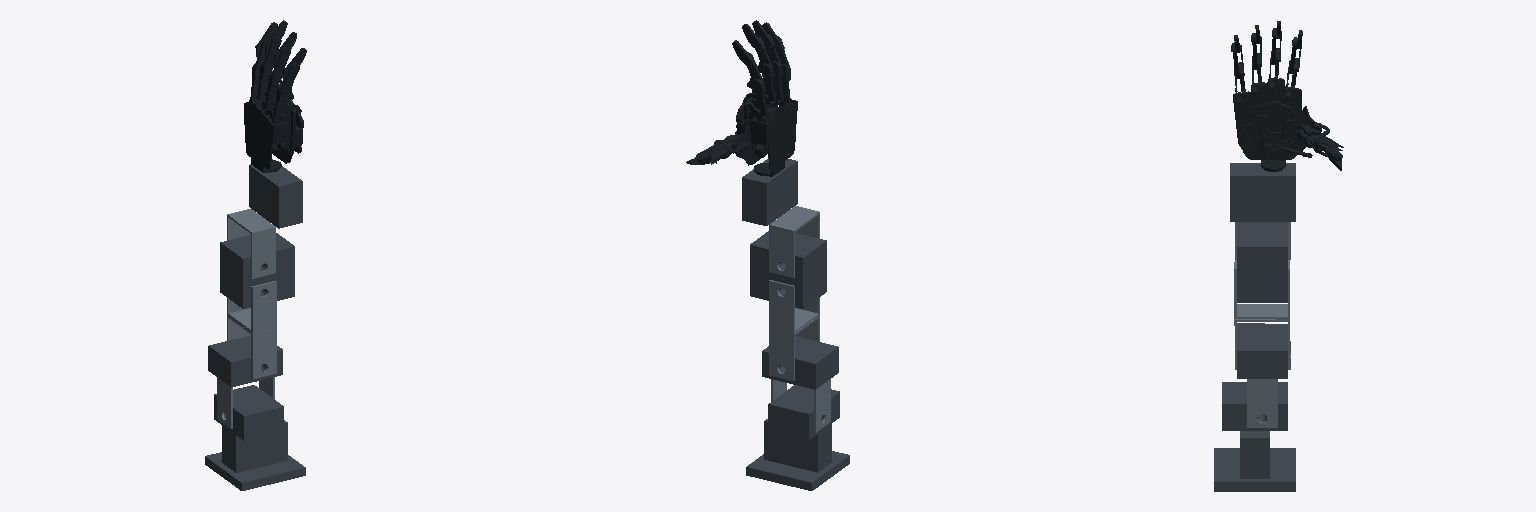
URDF robot description (kd_u3b_uhand_arm):
<?xml version="1.0"?>
<robot name="kd_u3b_uhand_arm">
  <!--
    Simplified arm assembled from the requested sequence:
      KD(base) -> U3B -> U3B -> KD + KD -> U3B -> right-angle adapter -> uHand palm.
    The supplied STL files are in millimetres, hence the 0.001 mesh scale.
    The hand meshes are filtered from uHand uno.igs to remove the acrylic base and
    controller modules.  The five finger links each have their own servo joint.
  -->

  <material name="kd_gray">
    <color rgba="0.30 0.33 0.36 1.0"/>
  </material>
  <material name="u3b_gray">
    <color rgba="0.46 0.50 0.54 1.0"/>
  </material>
  <material name="adapter_black">
    <color rgba="0.12 0.13 0.14 1.0"/>
  </material>
  <material name="hand_dark">
    <color rgba="0.16 0.18 0.20 1.0"/>
  </material>

  <link name="base_link">
    <inertial>
      <origin xyz="0 0 0"/>
      <mass value="0.20"/>
      <inertia ixx="0.00010" ixy="0" ixz="0" iyy="0.00010" iyz="0" izz="0.00010"/>
    </inertial>
    <visual>
      <geometry>
        <box size="0.08 0.08 0.01"/>
      </geometry>
      <material name="kd_gray"/>
    </visual>
    <collision>
      <geometry>
        <box size="0.08 0.08 0.01"/>
      </geometry>
    </collision>
  </link>

  <!-- KD used as the fixed base. Its side-hole centre is the first arm axis. -->
  <link name="kd_base">
    <inertial>
      <origin xyz="0 2e-05 0.025012"/>
      <mass value="0.12"/>
      <inertia ixx="3.40477796e-05" ixy="0" ixz="0" iyy="6.72738796e-05" iyz="0" izz="5.12738999e-05"/>
    </inertial>
    <visual>
      <origin xyz="-0.0325 0.015 0" rpy="1.57 0 0"/>
      <geometry>
        <mesh filename="meshes/KD.STL" scale="0.001 0.001 0.001"/>
      </geometry>
      <material name="kd_gray"/>
    </visual>
    <collision>
      <origin xyz="0 2e-05 0.025012"/>
      <geometry>
        <box size="0.065 0.03004 0.050024"/>
      </geometry>
    </collision>
  </link>

  <joint name="base_to_kd" type="fixed">
    <parent link="base_link"/>
    <child link="kd_base"/>
    <origin xyz="0 0 0"/>
  </joint>

  <!-- KD side centre -> the two-hole side of the first U3B (not U3A). -->
  <joint name="kd_base_side_to_kd_2" type="revolute">
    <parent link="kd_base"/>
    <child link="kd_2"/>
    <origin xyz="-0.0075 0.0 0.05" rpy="0 0 -1.57"/>
    <axis xyz="0 0 1"/>
    <limit lower="-0.9725" upper="0.8701" effort="6.0" velocity="2.0"/>
    <dynamics damping="0.05" friction="0.02"/>
  </joint>
  <link name="kd_2">
    <inertial>
      <origin xyz="0 0 0.015"/>
      <mass value="0.12"/>
      <inertia ixx="3.4e-05" ixy="0" ixz="0" iyy="5.125e-05" iyz="0" izz="6.725e-05"/>
    </inertial>
    <visual>
      <origin xyz="-0.0325 -0.025 0" rpy="0 0 0"/>
      <geometry>
        <mesh filename="meshes/KD.STL" scale="0.001 0.001 0.001"/>
      </geometry>
      <material name="kd_gray"/>
    </visual>
    <collision>
      <origin xyz="0 0 0.015"/>
      <geometry>
        <box size="0.065 0.05 0.03"/>
      </geometry>
    </collision>
  </link>
  <joint name="kd_2_to_u3b_base" type="revolute">
    <parent link="kd_2"/>
    <child link="u3b_base"/>
    <origin xyz="-0.0075 0 0.015"/>
    <axis xyz="0 -1 0"/>
    <!-- upper = raw 350 (SAFE_LIMITS[2] 上限) = +66.86°; 再大舵机执行不了 -->
    <limit lower="-0.4709" upper="1.1670" effort="6.0" velocity="2.0"/>
    <dynamics damping="0.05" friction="0.02"/>
  </joint>
  <link name="u3b_base">
    <inertial>
      <origin xyz="6.6e-05 -1.2e-05 0.017524"/>
      <mass value="0.08"/>
      <inertia ixx="4.03858971e-05" ixy="0" ixz="0" iyy="2.62543226e-05" iyz="0" izz="2.62368815e-05"/>
    </inertial>
    <visual>
      <origin xyz="-0.015 -0.0275 0.045" rpy="3.14 0 1.57"/>
      <geometry>
        <mesh filename="meshes/U3B.STL" scale="0.001 0.001 0.001"/>
      </geometry>
      <material name="u3b_gray"/>
    </visual>
    <collision>
      <origin xyz="6.6e-05 -1.2e-05 0.017524"/>
      <geometry>
        <box size="0.030131 0.055024 0.055048"/>
      </geometry>
    </collision>
  </link>
  <joint name="u3b_base_to_kd_3" type="fixed">
    <parent link="u3b_base"/>
    <child link="kd_3"/>
    <origin xyz="0 0 0.045" rpy="0 0 3.14"/>
    <axis xyz="1 0 0"/>
    <limit lower="-1.57" upper="1.57" effort="6.0" velocity="2.0"/>
    <dynamics damping="0.05" friction="0.02"/>
  </joint>
  <link name="kd_3">
    <inertial>
      <origin xyz="2.6e-05 2e-05 0.015"/>
      <mass value="0.12"/>
      <inertia ixx="5.13017503e-05" ixy="0" ixz="0" iyy="3.40517722e-05" iyz="0" izz="6.73535224e-05"/>
    </inertial>
    <visual>
      <origin xyz="0.025 -0.0325 0" rpy="0 0 1.57"/>
      <geometry>
        <mesh filename="meshes/KD.STL" scale="0.001 0.001 0.001"/>
      </geometry>
      <material name="kd_gray"/>
    </visual>
    <collision>
      <origin xyz="2.6e-05 2e-05 0.015"/>
      <geometry>
        <box size="0.050052 0.06504 0.03"/>
      </geometry>
    </collision>
  </link>
  <joint name="kd_3_to_u3b_lower" type="revolute">
    <parent link="kd_3"/>
    <child link="u3b_lower"/>
    <origin xyz="0.0 -0.0075 0.015"/>
    <axis xyz="1 0 0"/>
    <limit lower="-0.2047" upper="2.3544" effort="6.0" velocity="2.0"/>
    <dynamics damping="0.05" friction="0.02"/>
  </joint>
  <link name="u3b_lower">
    <inertial>
      <origin xyz="4.4e-05 0 0.017456"/>
      <mass value="0.08"/>
      <inertia ixx="2.62309036e-05" ixy="0" ixz="0" iyy="4.04618072e-05" iyz="0" izz="2.62309036e-05"/>
    </inertial>
    <visual>
      <origin xyz="0.0275 -0.015 0.045" rpy="0 3.14 0"/>
      <geometry>
        <mesh filename="meshes/U3B.STL" scale="0.001 0.001 0.001"/>
      </geometry>
      <material name="u3b_gray"/>
    </visual>
    <collision>
      <origin xyz="4.4e-05 0 0.017456"/>
      <geometry>
        <box size="0.055088 0.03 0.055088"/>
      </geometry>
    </collision>
  </link>

  <!-- Face-to-face U3B connection. -->
  <joint name="u3b_lower_to_u3b_middle" type="fixed">
    <parent link="u3b_lower"/>
    <child link="u3b_middle"/>
    <origin xyz="0 0 0.045" rpy="0 0 0"/>
  </joint>

  <link name="u3b_middle">
    <inertial>
      <origin xyz="0 0 0.0275"/>
      <mass value="0.08"/>
      <inertia ixx="2.61666667e-05" ixy="0" ixz="0" iyy="4.03333333e-05" iyz="0" izz="2.61666667e-05"/>
    </inertial>
    <visual>
      <origin xyz="-0.0275 -0.015 0" />
      <geometry>
        <mesh filename="meshes/U3B.STL" scale="0.001 0.001 0.001"/>
      </geometry>
      <material name="u3b_gray"/>
    </visual>
    <collision>
      <origin xyz="0 0 0.0275"/>
      <geometry>
        <box size="0.055 0.03 0.055"/>
      </geometry>
    </collision>
  </link>

  <!-- First KD of the paired KD block. -->
  <joint name="u3b_middle_to_kd_pair_front" type="revolute">
    <parent link="u3b_middle"/>
    <child link="kd_pair_front"/>
    <origin xyz="0 0 0.045" rpy="3.14 0 0"/>
    <axis xyz="-1 0 0"/>
    <limit lower="-0.7677" upper="0.6142" effort="6.0" velocity="2.0"/>
    <dynamics damping="0.05" friction="0.02"/>
  </joint>

  <link name="kd_pair_front">
    <inertial>
      <origin xyz="2.6e-05 0.00752 0"/>
      <mass value="0.12"/>
      <inertia ixx="5.13017503e-05" ixy="0" ixz="0" iyy="3.40517722e-05" iyz="0" izz="6.73535224e-05"/>
    </inertial>
    <visual>
      <origin xyz="0.025 -0.025 -0.015" rpy="0 0 1.57"/>
      <geometry>
        <mesh filename="meshes/KD.STL" scale="0.001 0.001 0.001"/>
      </geometry>
      <material name="kd_gray"/>
    </visual>
    <collision>
      <origin xyz="2.6e-05 0.00752 0"/>
      <geometry>
        <box size="0.050052 0.06504 0.03"/>
      </geometry>
    </collision>
  </link>

  <!-- The second KD is fixed face-to-face with the first one. -->
  <joint name="kd_pair_front_to_kd_pair_rear" type="fixed">
    <parent link="kd_pair_front"/>
    <child link="kd_pair_rear"/>
    <origin xyz="0 0.0075 -0.015" rpy="3.14 0 1.57"/>
  </joint>

  <link name="kd_pair_rear">
    <inertial>
      <origin xyz="0 0 0.015"/>
      <mass value="0.12"/>
      <inertia ixx="3.4e-05" ixy="0" ixz="0" iyy="5.125e-05" iyz="0" izz="6.725e-05"/>
    </inertial>
    <visual>
      <origin xyz="-0.0325 -0.025 0"/>
      <geometry>
        <mesh filename="meshes/KD.STL" scale="0.001 0.001 0.001"/>
      </geometry>
      <material name="kd_gray"/>
    </visual>
    <collision>
      <origin xyz="0 0 0.015"/>
      <geometry>
        <box size="0.065 0.05 0.03"/>
      </geometry>
    </collision>
  </link>

  <!-- Paired KD side centre -> the third U3B. -->
  <joint name="kd_pair_to_u3b_upper" type="revolute">
    <parent link="kd_pair_rear"/>
    <child link="u3b_upper"/>
    <origin xyz="-0.0075 0 0.015"/>
    <axis xyz="0 -1 0"/>
    <limit lower="-0.5988" upper="0.5272" effort="6.0" velocity="2.0"/>
    <dynamics damping="0.05" friction="0.02"/>
  </joint>

  <link name="u3b_upper">
    <inertial>
      <origin xyz="-2.2e-05 5.6e-05 0.017456"/>
      <mass value="0.08"/>
      <inertia ixx="4.04793452e-05" ixy="0" ixz="0" iyy="2.62484597e-05" iyz="0" izz="2.62659977e-05"/>
    </inertial>
    <visual>
      <origin xyz="0.015 0.0275 0.045" rpy="0 3.14 1.57"/>
      <geometry>
        <mesh filename="meshes/U3B.STL" scale="0.001 0.001 0.001"/>
      </geometry>
      <material name="u3b_gray"/>
    </visual>
    <collision>
      <origin xyz="-2.2e-05 5.6e-05 0.017456"/>
      <geometry>
        <box size="0.030044 0.055111 0.055088"/>
      </geometry>
    </collision>
  </link>

  <joint name="u3b_upper_to_kd_4" type="fixed">
    <parent link="u3b_upper"/>
    <child link="kd_4"/>
    <origin xyz="0.06 0 0.045" rpy="0 1.57 3.14"/>
    <axis xyz="1 0 0"/>
    <limit lower="-1.57" upper="1.57" effort="6.0" velocity="2.0"/>
    <dynamics damping="0.05" friction="0.02"/>
  </joint>
  <link name="kd_4">
    <inertial>
      <origin xyz="-0.024974 2e-05 0.03"/>
      <mass value="0.12"/>
      <inertia ixx="5.13017503e-05" ixy="0" ixz="0" iyy="3.40517722e-05" iyz="0" izz="6.73535224e-05"/>
    </inertial>
    <visual>
      <origin xyz="0.0 -0.0325 0.015" rpy="0 0 1.57"/>
      <geometry>
        <mesh filename="meshes/KD.STL" scale="0.001 0.001 0.001"/>
      </geometry>
      <material name="kd_gray"/>
    </visual>
    <collision>
      <origin xyz="-0.024974 2e-05 0.03"/>
      <geometry>
        <box size="0.050052 0.06504 0.03"/>
      </geometry>
    </collision>
  </link>
  <joint name="kd_4_to_palm" type="revolute">
    <parent link="kd_4"/>
    <child link="hand_palm"/>
    <origin xyz="-0.055 -0.0075 0.0275" rpy="1.57 0 -1.57"/>
    <axis xyz="0 0 1"/>
    <limit lower="-0.4658" upper="0.5579" effort="6.0" velocity="2.0"/>
    <dynamics damping="0.05" friction="0.02"/>
  </joint>
  <link name="hand_palm">
    <inertial>
      <origin xyz="0.018656 -0.006358 0.035202"/>
      <mass value="0.35"/>
      <inertia ixx="0.000297027197" ixy="0" ixz="0" iyy="0.000568130164" iyz="0" izz="0.000449558445"/>
    </inertial>
    <visual>
      <origin xyz="0 0 0"/>
      <geometry>
        <mesh filename="meshes/hand_palm.stl" scale="0.001 0.001 0.001"/>
      </geometry>
      <material name="hand_dark"/>
    </visual>
    <collision>
      <origin xyz="0.018656 -0.006358 0.035202"/>
      <geometry>
        <box size="0.111149 0.05531 0.084407"/>
      </geometry>
    </collision>
  </link>

  <!-- Five independent finger servos.  The x positions follow the extracted CAD. -->
  <joint name="finger_pinky_joint" type="fixed">
    <parent link="hand_palm"/>
    <child link="finger_pinky"/>
    <origin xyz="-0.032 -0.003 0.065"/>
    <axis xyz="0 1 0"/>
    <limit lower="-1.20" upper="0.35" effort="0.8" velocity="4.0"/>
    <dynamics damping="0.02" friction="0.01"/>
  </joint>

  <link name="finger_pinky">
    <inertial>
      <origin xyz="0.004537 0.000808 0.024039"/>
      <mass value="0.04"/>
      <inertia ixx="5.38302262e-05" ixy="0" ixz="0" iyy="5.08933904e-05" iyz="0" izz="6.52359358e-06"/>
    </inertial>
    <visual>
      <geometry>
        <mesh filename="meshes/finger_pinky.stl" scale="0.001 0.001 0.001"/>
      </geometry>
      <material name="hand_dark"/>
    </visual>
    <collision>
      <origin xyz="0.004537 0.000808 0.024039"/>
      <geometry>
        <box size="0.023195 0.03767 0.121367"/>
      </geometry>
    </collision>
  </link>

  <joint name="finger_ring_joint" type="fixed">
    <parent link="hand_palm"/>
    <child link="finger_ring"/>
    <origin xyz="-0.015 -0.003 0.065"/>
    <axis xyz="0 1 0"/>
    <limit lower="-1.20" upper="0.35" effort="0.8" velocity="4.0"/>
    <dynamics damping="0.02" friction="0.01"/>
  </joint>

  <link name="finger_ring">
    <inertial>
      <origin xyz="0.002047 0.000808 0.041587"/>
      <mass value="0.04"/>
      <inertia ixx="4.30291598e-05" ixy="0" ixz="0" iyy="4.25210141e-05" iyz="0" izz="8.95228362e-06"/>
    </inertial>
    <visual>
      <geometry>
        <mesh filename="meshes/finger_ring.stl" scale="0.001 0.001 0.001"/>
      </geometry>
      <material name="hand_dark"/>
    </visual>
    <collision>
      <origin xyz="0.002047 0.000808 0.041587"/>
      <geometry>
        <box size="0.03559 0.03767 0.10719"/>
      </geometry>
    </collision>
  </link>

  <joint name="finger_middle_joint" type="fixed">
    <parent link="hand_palm"/>
    <child link="finger_middle"/>
    <origin xyz="0.002 -0.003 0.065"/>
    <axis xyz="0 1 0"/>
    <limit lower="-1.20" upper="0.35" effort="0.8" velocity="4.0"/>
    <dynamics damping="0.02" friction="0.01"/>
  </joint>

  <link name="finger_middle">
    <inertial>
      <origin xyz="-0.00131 0.000808 0.04712"/>
      <mass value="0.04"/>
      <inertia ixx="4.22594979e-05" ixy="0" ixz="0" iyy="4.24977434e-05" iyz="0" izz="9.69867477e-06"/>
    </inertial>
    <visual>
      <geometry>
        <mesh filename="meshes/finger_middle.stl" scale="0.001 0.001 0.001"/>
      </geometry>
      <material name="hand_dark"/>
    </visual>
    <collision>
      <origin xyz="-0.00131 0.000808 0.04712"/>
      <geometry>
        <box size="0.038607 0.03767 0.106107"/>
      </geometry>
    </collision>
  </link>

  <joint name="finger_index_joint" type="fixed">
    <parent link="hand_palm"/>
    <child link="finger_index"/>
    <origin xyz="0.021 -0.003 0.065"/>
    <axis xyz="0 1 0"/>
    <limit lower="-1.20" upper="0.35" effort="0.8" velocity="4.0"/>
    <dynamics damping="0.02" friction="0.01"/>
  </joint>

  <link name="finger_index">
    <inertial>
      <origin xyz="-0.001045 0.000808 0.039311"/>
      <mass value="0.04"/>
      <inertia ixx="3.85778765e-05" ixy="0" ixz="0" iyy="3.66163507e-05" iyz="0" izz="7.49890358e-06"/>
    </inertial>
    <visual>
      <geometry>
        <mesh filename="meshes/finger_index.stl" scale="0.001 0.001 0.001"/>
      </geometry>
      <material name="hand_dark"/>
    </visual>
    <collision>
      <origin xyz="-0.001045 0.000808 0.039311"/>
      <geometry>
        <box size="0.02882 0.03767 0.100769"/>
      </geometry>
    </collision>
  </link>

  <joint name="finger_thumb_joint" type="fixed">
    <parent link="hand_palm"/>
    <child link="finger_thumb"/>
    <origin xyz="0.040 -0.016 0.032" rpy="0 0 -0.35"/>
    <axis xyz="0 1 0"/>
    <limit lower="-1.30" upper="0.50" effort="0.8" velocity="4.0"/>
    <dynamics damping="0.02" friction="0.01"/>
  </joint>

  <link name="finger_thumb">
    <inertial>
      <origin xyz="0.008693 -0.001838 0.007497"/>
      <mass value="0.045"/>
      <inertia ixx="1.88326087e-05" ixy="0" ixz="0" iyy="2.73737121e-05" iyz="0" izz="2.50623035e-05"/>
    </inertial>
    <visual>
      <geometry>
        <mesh filename="meshes/finger_thumb.stl" scale="0.001 0.001 0.001"/>
      </geometry>
      <material name="hand_dark"/>
    </visual>
    <collision>
      <origin xyz="0.008693 -0.001838 0.007497"/>
      <geometry>
        <box size="0.066936 0.046934 0.053096"/>
      </geometry>
    </collision>
  </link>

  <!-- Position-control transmissions: one actuator per moving arm/finger joint. -->
  <transmission name="trans_kd_base_side_to_kd_2">
    <type>transmission_interface/SimpleTransmission</type>
    <joint name="kd_base_side_to_kd_2">
      <hardwareInterface>hardware_interface/PositionJointInterface</hardwareInterface>
    </joint>
    <actuator name="servo_1">
      <hardwareInterface>hardware_interface/PositionJointInterface</hardwareInterface>
      <mechanicalReduction>1</mechanicalReduction>
    </actuator>
  </transmission>
  <transmission name="trans_kd_2_to_u3b_base">
    <type>transmission_interface/SimpleTransmission</type>
    <joint name="kd_2_to_u3b_base">
      <hardwareInterface>hardware_interface/PositionJointInterface</hardwareInterface>
    </joint>
    <actuator name="servo_2">
      <hardwareInterface>hardware_interface/PositionJointInterface</hardwareInterface>
      <mechanicalReduction>1</mechanicalReduction>
    </actuator>
  </transmission>
  <transmission name="trans_kd_3_to_u3b_lower">
    <type>transmission_interface/SimpleTransmission</type>
    <joint name="kd_3_to_u3b_lower">
      <hardwareInterface>hardware_interface/PositionJointInterface</hardwareInterface>
    </joint>
    <actuator name="servo_3">
      <hardwareInterface>hardware_interface/PositionJointInterface</hardwareInterface>
      <mechanicalReduction>1</mechanicalReduction>
    </actuator>
  </transmission>
  <transmission name="trans_u3b_middle_to_kd_pair_front">
    <type>transmission_interface/SimpleTransmission</type>
    <joint name="u3b_middle_to_kd_pair_front">
      <hardwareInterface>hardware_interface/PositionJointInterface</hardwareInterface>
    </joint>
    <actuator name="servo_4">
      <hardwareInterface>hardware_interface/PositionJointInterface</hardwareInterface>
      <mechanicalReduction>1</mechanicalReduction>
    </actuator>
  </transmission>
  <transmission name="trans_kd_pair_to_u3b_upper">
    <type>transmission_interface/SimpleTransmission</type>
    <joint name="kd_pair_to_u3b_upper">
      <hardwareInterface>hardware_interface/PositionJointInterface</hardwareInterface>
    </joint>
    <actuator name="servo_5">
      <hardwareInterface>hardware_interface/PositionJointInterface</hardwareInterface>
      <mechanicalReduction>1</mechanicalReduction>
    </actuator>
  </transmission>

  <transmission name="trans_kd_4_to_palm">
    <type>transmission_interface/SimpleTransmission</type>
    <joint name="kd_4_to_palm">
      <hardwareInterface>hardware_interface/PositionJointInterface</hardwareInterface>
    </joint>
    <actuator name="servo_6">
      <hardwareInterface>hardware_interface/PositionJointInterface</hardwareInterface>
      <mechanicalReduction>1</mechanicalReduction>
    </actuator>
  </transmission>
</robot>

--- Render facts (derived) ---
The picture shows the robot from 3 angles, left to right: view 1: azimuth 30°, elevation 25°; view 2: azimuth 150°, elevation 25°; view 3: azimuth 270°, elevation 25°; orthographic projection.
Robot: kd_u3b_uhand_arm — 17 links, 16 joints (6 revolute, 10 fixed); root link base_link; default pose: every joint at zero.
Visible links, largest first — view 1: hand_palm, kd_4, kd_2, kd_base, kd_3, u3b_upper, kd_pair_rear, base_link, u3b_middle, u3b_lower, kd_pair_front, finger_pinky (+4 smaller); view 2: hand_palm, kd_4, kd_2, kd_base, kd_3, u3b_upper, kd_pair_rear, base_link, u3b_middle, u3b_lower, kd_pair_front, finger_index (+5 smaller); view 3: hand_palm, kd_4, kd_3, kd_pair_rear, base_link, kd_2, u3b_base, kd_base, kd_pair_front, u3b_middle, finger_ring, finger_middle (+3 smaller).
Boxes of the visible links, x1,y1,x2,y2 form: hand_palm: (244, 101, 303, 172); kd_4: (249, 159, 302, 228); kd_2: (214, 385, 283, 440); kd_base: (222, 420, 287, 472); kd_3: (208, 335, 282, 387); u3b_upper: (227, 209, 275, 278); kd_pair_rear: (220, 233, 294, 283); base_link: (205, 452, 305, 490); u3b_middle: (227, 281, 276, 332); u3b_lower: (227, 315, 276, 378); kd_pair_front: (220, 268, 294, 308); finger_pinky: (271, 48, 306, 123); hand_palm: (709, 99, 797, 176); kd_4: (742, 158, 797, 225); kd_2: (768, 385, 839, 439); kd_base: (764, 419, 831, 472); kd_3: (762, 336, 838, 389); u3b_upper: (769, 206, 819, 277); kd_pair_rear: (750, 231, 826, 282); base_link: (746, 451, 849, 490); u3b_middle: (769, 280, 819, 333); u3b_lower: (769, 315, 819, 380); kd_pair_front: (750, 267, 826, 308); finger_index: (732, 40, 768, 119); hand_palm: (1233, 86, 1343, 171); kd_4: (1230, 163, 1295, 221); kd_3: (1237, 323, 1287, 378); kd_pair_rear: (1237, 222, 1287, 274); base_link: (1214, 448, 1295, 491); kd_2: (1222, 382, 1287, 430); u3b_base: (1247, 379, 1277, 427); kd_base: (1240, 431, 1269, 478); kd_pair_front: (1237, 275, 1287, 302); u3b_middle: (1234, 260, 1289, 319); finger_ring: (1250, 25, 1274, 115); finger_middle: (1255, 21, 1289, 113).
Bounding box of the posed robot: 0.1267 × 0.1295 × 0.5152 m (x, y, z).
Meshes: 8 distinct files referenced, 16 mesh visuals loaded (8 binary STL).
